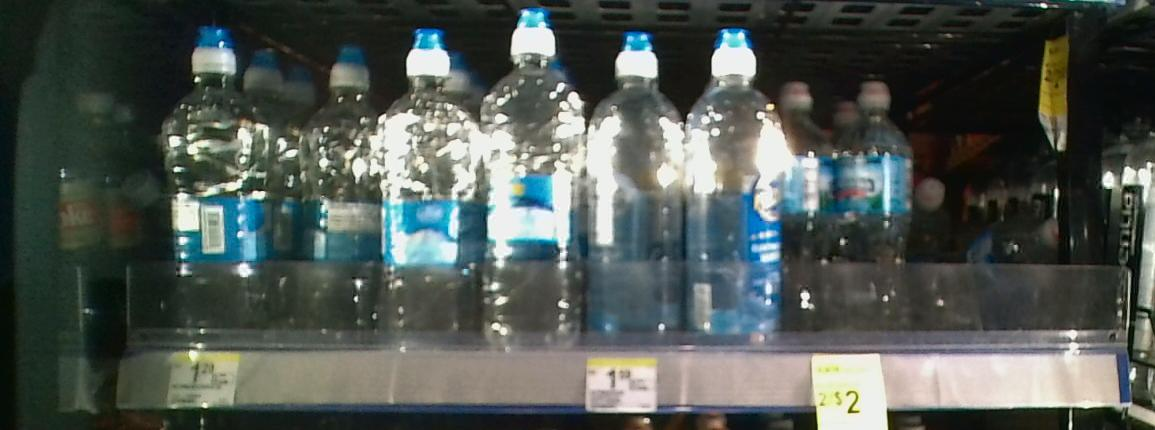bottle: (484, 5, 587, 351), (160, 16, 267, 343), (689, 20, 786, 346), (382, 23, 480, 337), (593, 21, 687, 346), (301, 43, 380, 339), (835, 83, 914, 333)
